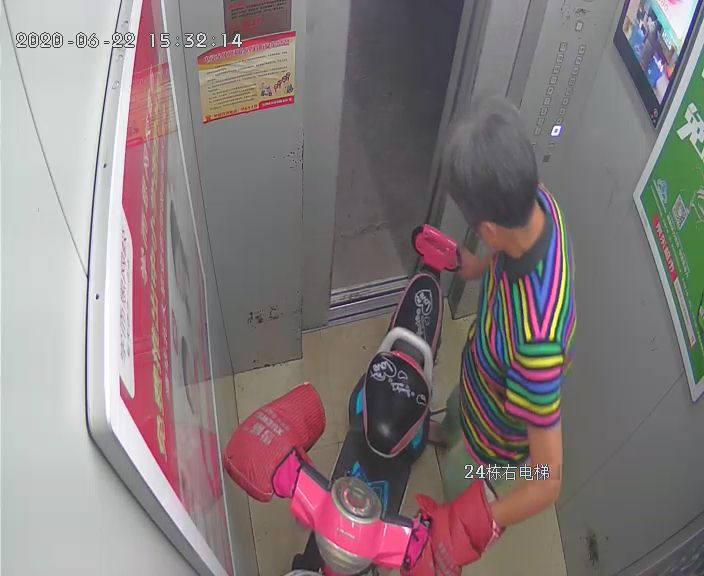Electric-bicycle: (223, 224, 489, 574)
